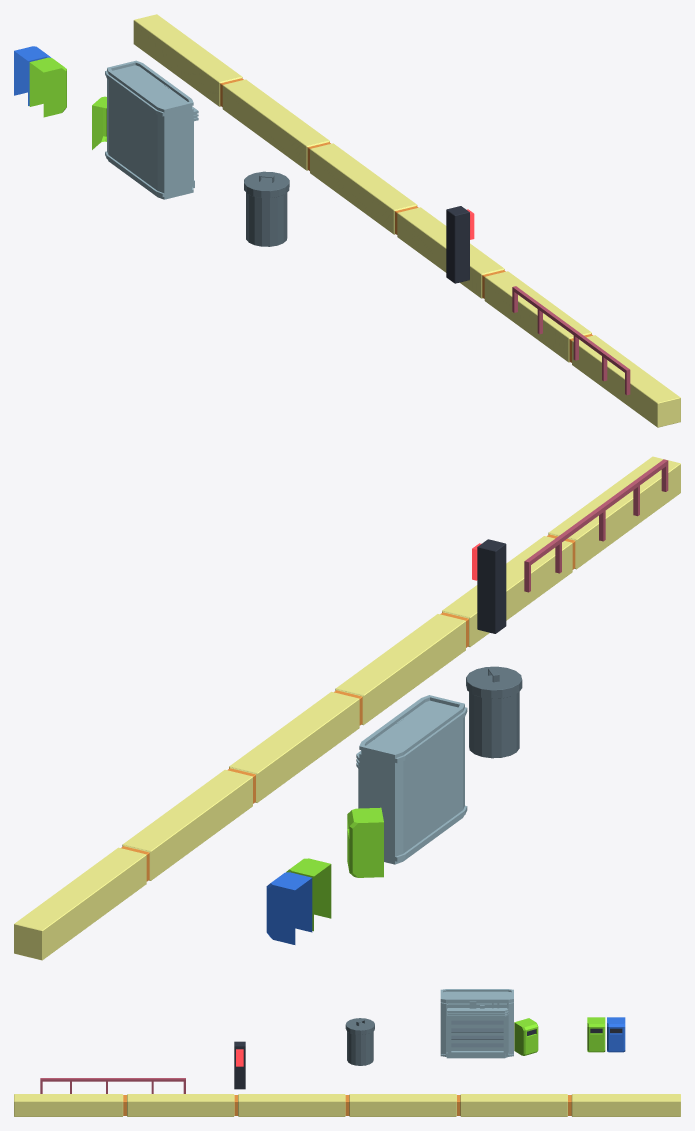
File: dddd.fbx
3 renders of one model, top to bottom at view 1: azimuth 30°, elevation 25°; view 2: azimuth 150°, elevation 25°; view 3: azimuth 270°, elevation 25°, orthographic. The views are drawn at different scales.
Visible parts, largest first — view 1: Cube.161, Cube.037, Plane.009, Cube, Cube.162, Cube.022, Cube.201, Cube.200; view 2: Cube.161, Cube.037, Plane.009, Cube.201, Cube.162, Cube.200, Cube.022, Cube; view 3: Cube.161, Cube.037, Plane.009, Cube.200, Cube.022, Cube, Cube.201, Cube.162.
Part boxes in pixels (x1,y1,x2,y2): Cube.161: (133, 14, 680, 427); Cube.037: (105, 60, 198, 199); Plane.009: (244, 171, 289, 246); Cube: (29, 57, 66, 117); Cube.162: (446, 206, 469, 283); Cube.022: (512, 286, 630, 395); Cube.201: (14, 46, 51, 105); Cube.200: (92, 96, 106, 149); Cube.161: (14, 456, 680, 960); Cube.037: (356, 695, 467, 864); Plane.009: (466, 666, 522, 758); Cube.201: (266, 872, 312, 944); Cube.162: (477, 539, 506, 633); Cube.200: (347, 807, 383, 877); Cube.022: (524, 459, 668, 592); Cube: (286, 858, 331, 931); Cube.161: (14, 1094, 680, 1116); Cube.037: (440, 989, 513, 1058); Plane.009: (345, 1018, 374, 1065); Cube.200: (514, 1018, 538, 1055); Cube.022: (40, 1078, 185, 1093); Cube: (587, 1017, 605, 1052); Cube.201: (607, 1017, 625, 1052); Cube.162: (234, 1041, 245, 1089).
Size of the model in its own units: 351 by 200 by 1703.
